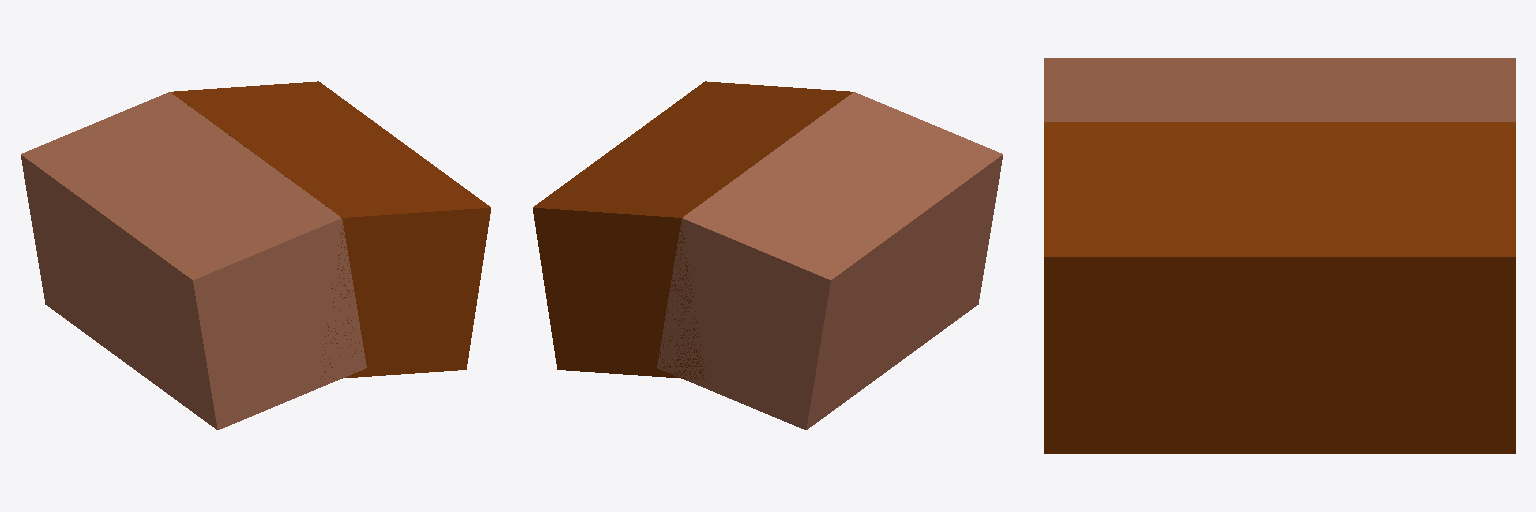
robot.urdf — slope:
<?xml version="0.0" ?>
<robot name="slope">
  <link name="baseLink">
    <contact>
      <lateral_friction value="1.0"/>
      <rolling_friction value="0.0"/>
      <contact_cfm value="0.0"/>
      <contact_erp value="1.0"/>
    </contact>
    <inertial>
      <origin rpy="0 0 0" xyz="0 0 0"/>
       <mass value="1.0"/>
       <inertia ixx="1" ixy="0" ixz="0" iyy="1" iyz="0" izz="1"/>
    </inertial>
    <visual>
      <origin rpy="0 -0.165 0" xyz="0 0 0 "/>
      <geometry>
        <box size="0.304 0.6 0.304"/>
      </geometry>
       <material name="brown">
           <color rgba="0.68 0.45 0.35 1.0"/>
      </material>
    </visual>
  </link>
  <joint name="j0" type="fixed">
      <origin rpy="0 0 0" xyz="0.25 0 0"/>
      <parent link="baseLink"/>
      <child link="secondLink"/>
  </joint>
  <link name="secondLink">
    <contact>
      <lateral_friction value="1.0"/>
      <rolling_friction value="0.0"/>
      <contact_cfm value="0.0"/>
      <contact_erp value="1.0"/>
    </contact>
    <inertial>
      <origin rpy="0 0 0" xyz="0 0 0"/>
       <mass value="1.0"/>
       <inertia ixx="1" ixy="0" ixz="0" iyy="1" iyz="0" izz="1"/>
    </inertial>
    <visual>
      <origin rpy="0 0.165 0" xyz="0 0 0"/>
      <geometry>
        <box size="0.304 0.6 0.304"/>
      </geometry>
       <material name="brown2">
           <color rgba="0.545 0.27 0.074 1.0"/>
      </material>
    </visual>
  </link>
</robot>

--- Render facts (derived) ---
Views: 3 orthographic renders of the robot side by side, from view 1: azimuth 30°, elevation 25°; view 2: azimuth 150°, elevation 25°; view 3: azimuth 270°, elevation 25°.
Robot: slope — 2 links, 1 joints (1 fixed); root link baseLink; default pose: all joints at 0.
Visible links, largest first — view 1: baseLink, secondLink; view 2: baseLink, secondLink; view 3: secondLink, baseLink.
Boxes of the visible links, left/top/right/bottom form: baseLink: left=21, top=92, right=366, bottom=429; secondLink: left=171, top=81, right=490, bottom=379; baseLink: left=657, top=92, right=1002, bottom=429; secondLink: left=533, top=81, right=852, bottom=379; secondLink: left=1044, top=122, right=1515, bottom=453; baseLink: left=1044, top=58, right=1515, bottom=121.
Size in the robot's own frame: 0.5998 by 0.6 by 0.3498 metres.
Geometry: primitives only (box / cylinder / sphere), no mesh files.